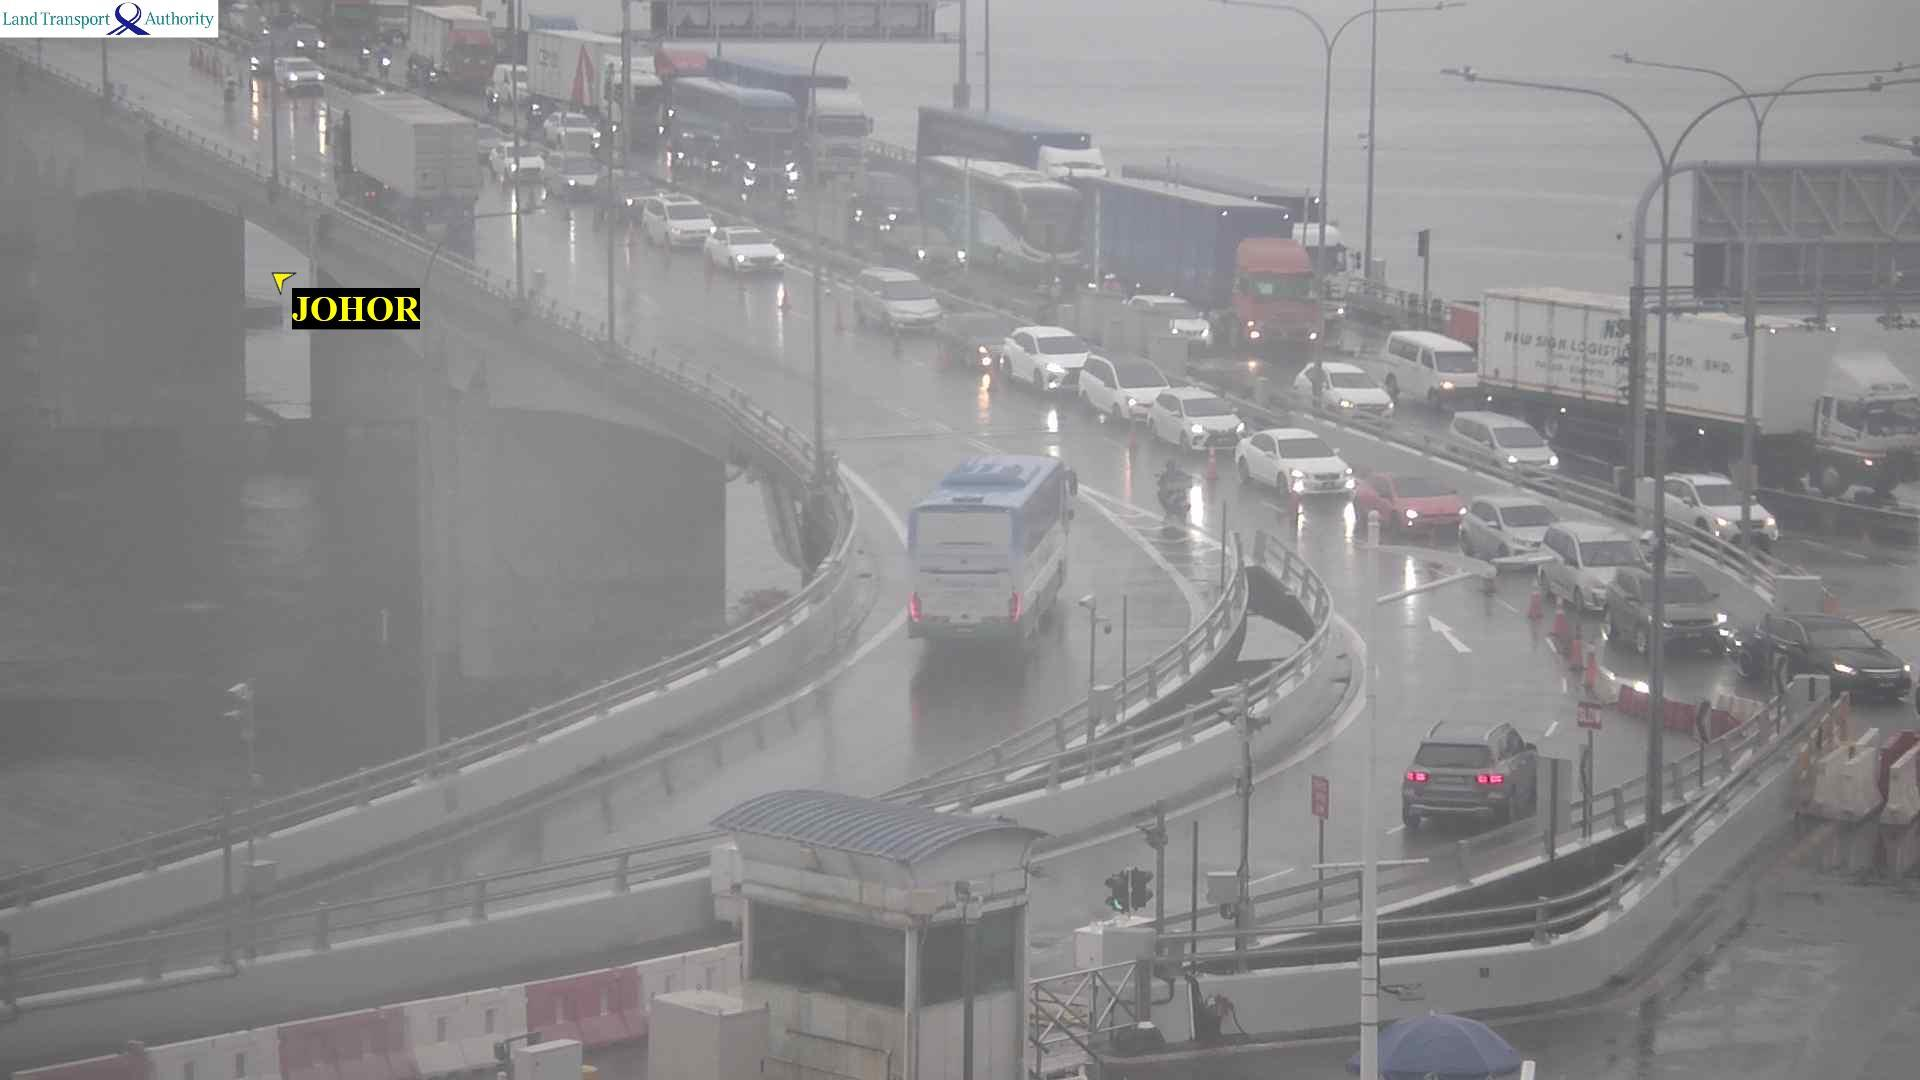vehicle-secondlink-johor: (909, 454, 1067, 638), (327, 94, 479, 239), (1403, 715, 1538, 828), (1142, 456, 1199, 521), (219, 71, 236, 107)
vehicle-secondlink-singapore: (1481, 281, 1920, 495), (1097, 177, 1324, 355), (1120, 166, 1349, 314), (711, 55, 866, 178), (928, 157, 1080, 276), (670, 83, 798, 210), (526, 28, 665, 135), (918, 105, 1109, 178), (1733, 616, 1909, 688), (1602, 578, 1731, 653), (1656, 475, 1776, 553), (1290, 359, 1387, 454), (1538, 534, 1647, 611), (1447, 410, 1560, 479), (1237, 433, 1356, 493), (1386, 327, 1478, 404), (1353, 476, 1469, 533), (849, 264, 942, 332), (1142, 392, 1246, 451), (413, 7, 495, 80), (1460, 498, 1560, 556), (1002, 328, 1092, 389), (705, 223, 786, 280), (1080, 360, 1171, 407), (940, 313, 1011, 369), (646, 190, 715, 243), (273, 54, 330, 98), (489, 138, 546, 181), (545, 108, 599, 149), (549, 153, 595, 198), (492, 66, 527, 102), (377, 42, 389, 78), (487, 83, 497, 113)
